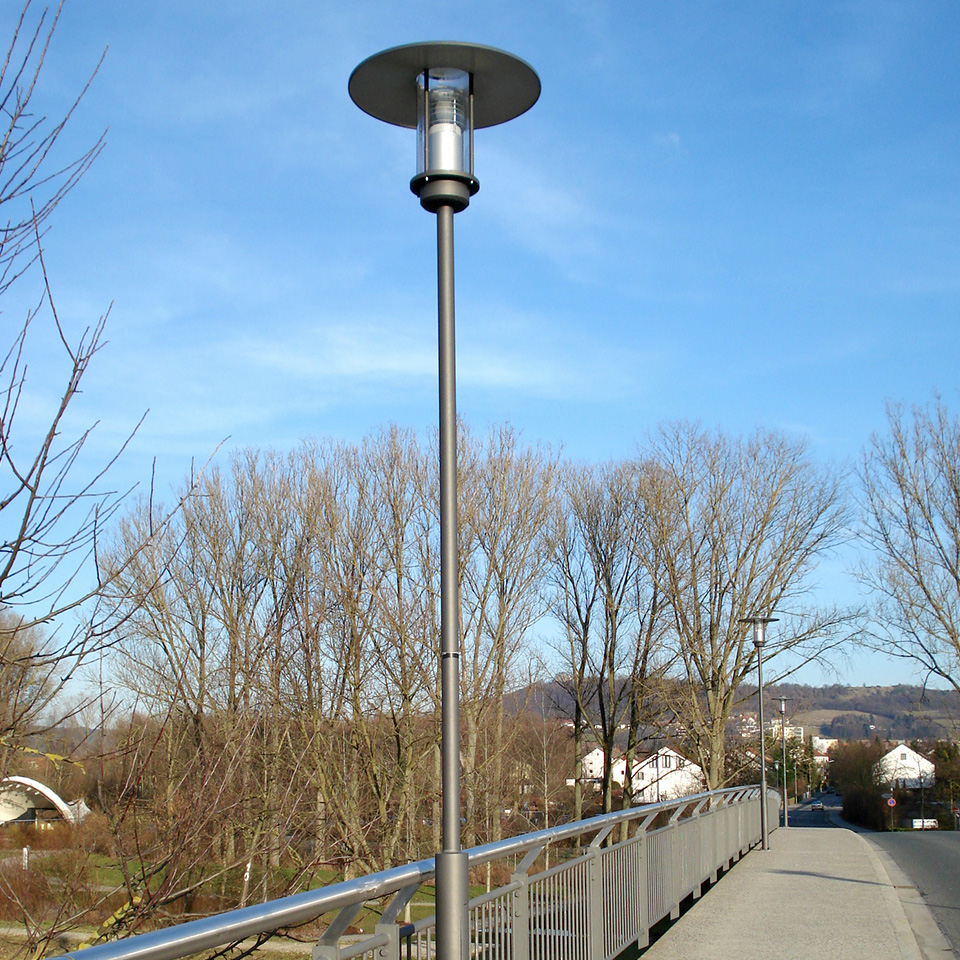Poste: (339, 36, 549, 960)
